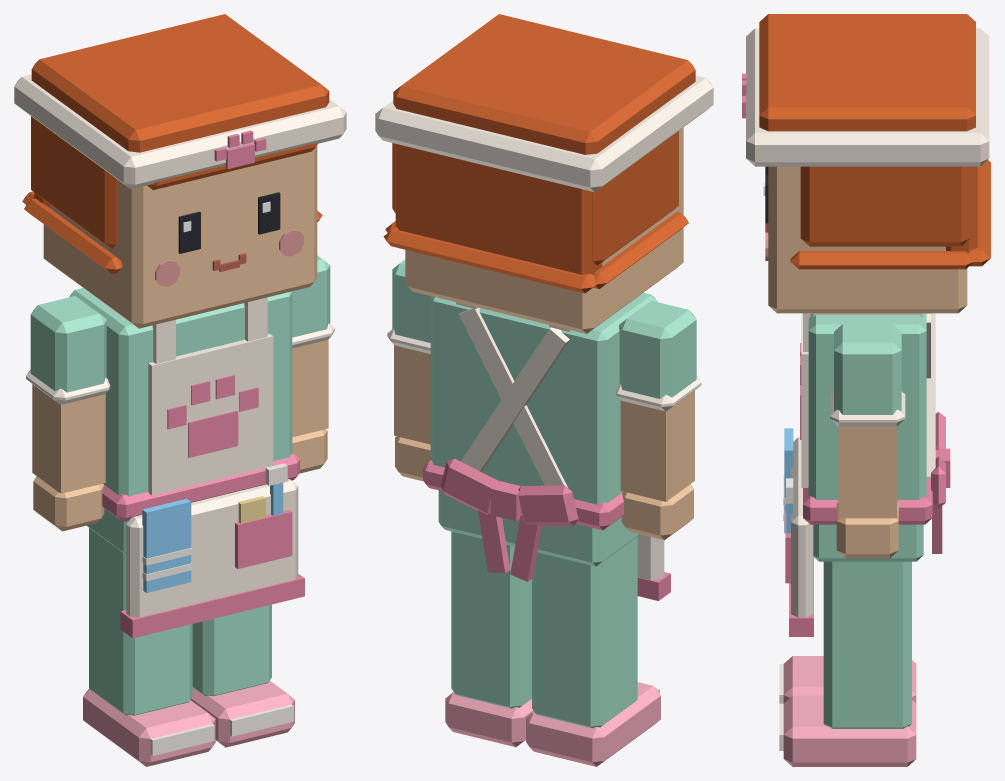
File: CleanACat_NPC_Staff_Jo.fbx
3 renders of one model, left to right at view 1: azimuth 30°, elevation 25°; view 2: azimuth 150°, elevation 25°; view 3: azimuth 270°, elevation 25°, orthographic. The views are drawn at different scales.
Visible parts, largest first — view 1: CleanACat_NPC_Staff_Jo_Head, CleanACat_NPC_Staff_Jo_Body, CleanACat_NPC_Staff_Jo_LegR, CleanACat_NPC_Staff_Jo_ArmR, CleanACat_NPC_Staff_Jo_LegL, CleanACat_NPC_Staff_Jo_ArmL; view 2: CleanACat_NPC_Staff_Jo_Head, CleanACat_NPC_Staff_Jo_Body, CleanACat_NPC_Staff_Jo_LegR, CleanACat_NPC_Staff_Jo_ArmR, CleanACat_NPC_Staff_Jo_LegL, CleanACat_NPC_Staff_Jo_ArmL; view 3: CleanACat_NPC_Staff_Jo_Head, CleanACat_NPC_Staff_Jo_Body, CleanACat_NPC_Staff_Jo_LegL, CleanACat_NPC_Staff_Jo_ArmL, CleanACat_NPC_Staff_Jo_LegR.
Boxes of the visible parts, <box> form: CleanACat_NPC_Staff_Jo_Head: <box>14,14,346,328</box>; CleanACat_NPC_Staff_Jo_Body: <box>69,288,304,638</box>; CleanACat_NPC_Staff_Jo_LegR: <box>83,528,215,766</box>; CleanACat_NPC_Staff_Jo_ArmR: <box>26,296,110,531</box>; CleanACat_NPC_Staff_Jo_LegL: <box>191,604,294,747</box>; CleanACat_NPC_Staff_Jo_ArmL: <box>291,255,334,473</box>; CleanACat_NPC_Staff_Jo_Head: <box>375,14,713,333</box>; CleanACat_NPC_Staff_Jo_Body: <box>423,292,670,600</box>; CleanACat_NPC_Staff_Jo_LegR: <box>526,536,660,766</box>; CleanACat_NPC_Staff_Jo_ArmR: <box>616,300,701,540</box>; CleanACat_NPC_Staff_Jo_LegL: <box>445,531,533,747</box>; CleanACat_NPC_Staff_Jo_ArmL: <box>387,260,431,481</box>; CleanACat_NPC_Staff_Jo_Head: <box>742,14,990,313</box>; CleanACat_NPC_Staff_Jo_Body: <box>783,313,950,636</box>; CleanACat_NPC_Staff_Jo_LegL: <box>779,561,916,766</box>; CleanACat_NPC_Staff_Jo_ArmL: <box>830,324,905,558</box>; CleanACat_NPC_Staff_Jo_LegR: <box>779,656,916,703</box>.
Bounding box in the file's own units: 2.27 × 5.02 × 1.69.
1 material, 1 textured.
